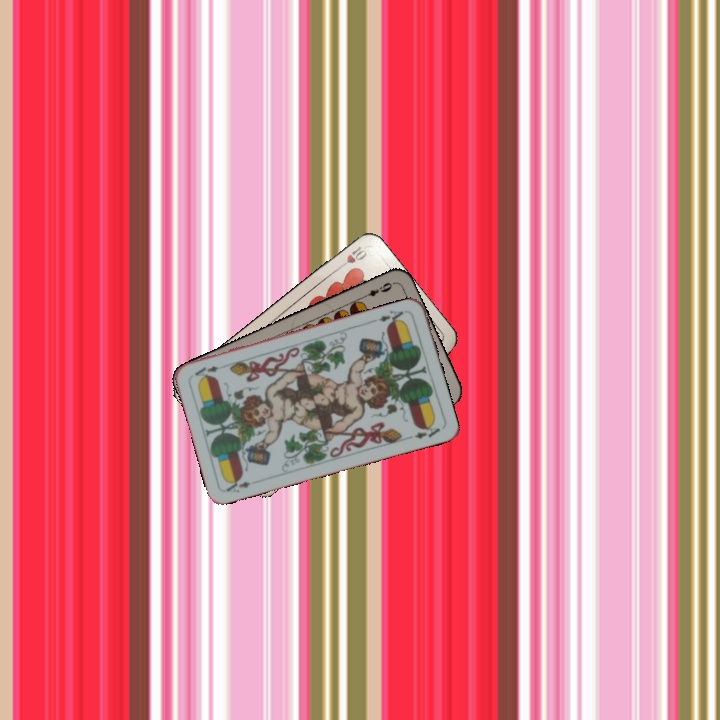E9: (358, 278, 396, 301)
EA: (375, 306, 409, 328), (222, 474, 253, 496)
H10: (334, 242, 370, 272)
